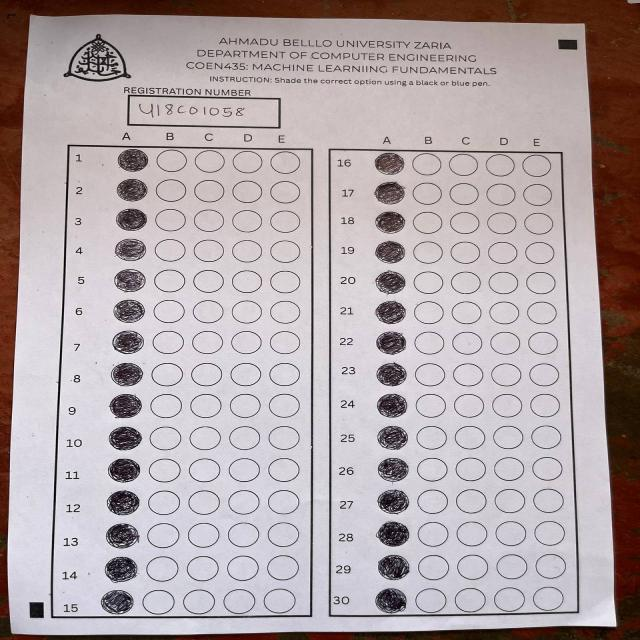bubble: (105, 523, 140, 549), (106, 490, 140, 516), (376, 521, 410, 547), (107, 458, 142, 483), (108, 426, 143, 451), (105, 556, 138, 582), (378, 554, 410, 580), (377, 489, 410, 514), (116, 149, 150, 173), (110, 362, 144, 386), (109, 394, 143, 418), (377, 457, 409, 482), (375, 588, 407, 613), (113, 299, 146, 323), (101, 590, 134, 614), (377, 393, 408, 418), (376, 362, 407, 387), (116, 208, 148, 232), (112, 330, 144, 354), (374, 240, 406, 264), (377, 426, 409, 450), (117, 178, 148, 202), (374, 181, 405, 205), (375, 270, 406, 294), (374, 211, 406, 234), (114, 269, 146, 292), (115, 238, 146, 261), (375, 301, 406, 324), (376, 331, 407, 354), (374, 152, 404, 175)
